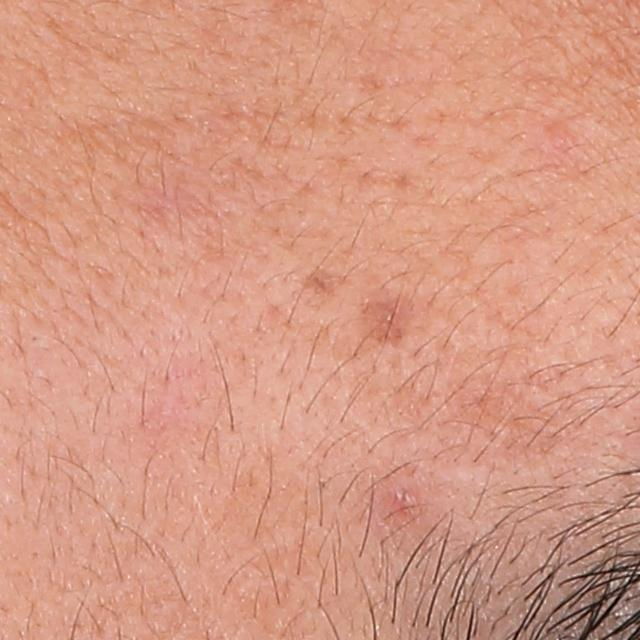papule: (382, 483, 426, 522)
